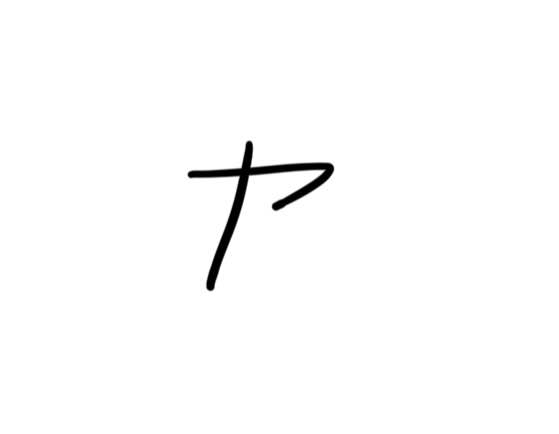ya: (172, 125, 339, 299)
